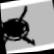not correct: (0, 3, 39, 53)
